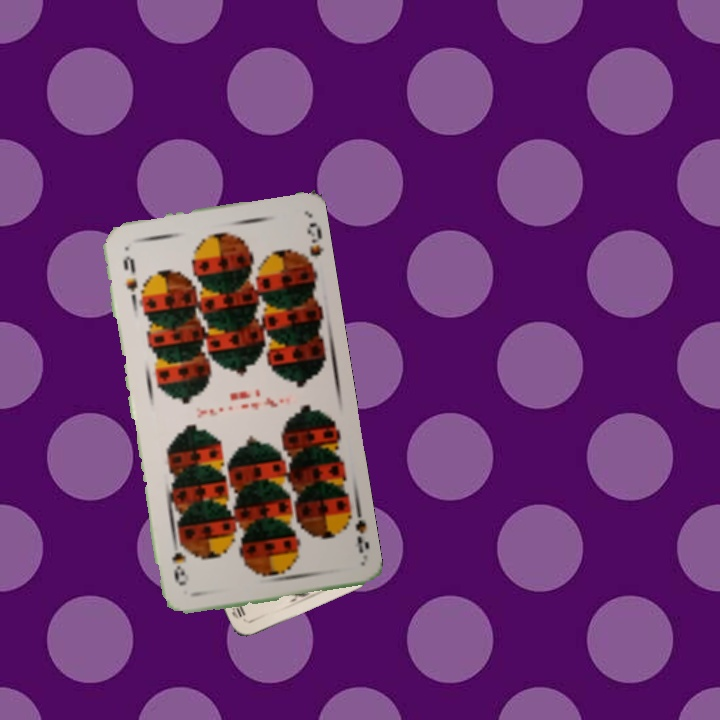S9: (339, 501, 372, 556), (119, 251, 144, 303)
